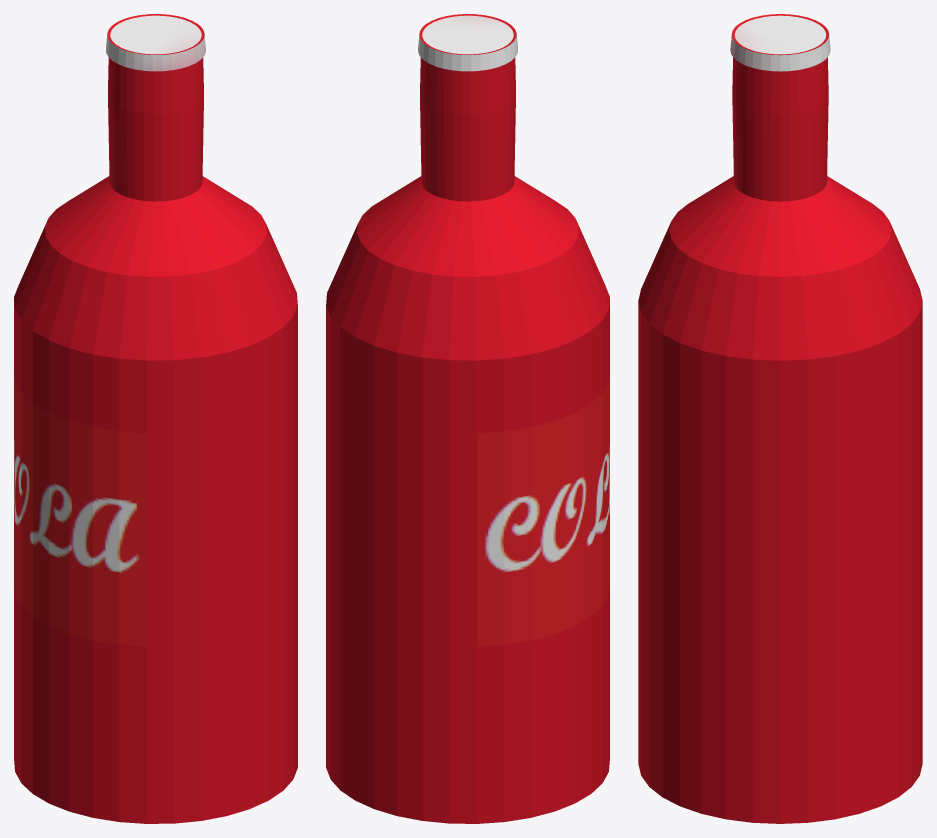
Rendered from SodaBottle.fbx.
3 renders of one model, left to right at view 1: azimuth 30°, elevation 25°; view 2: azimuth 150°, elevation 25°; view 3: azimuth 270°, elevation 25°, orthographic.
Parts seen in each view (by area): view 1: Cylinder.195; view 2: Cylinder.195; view 3: Cylinder.195.
Part boxes in pixels (x1,y1,x2,y2): Cylinder.195: (14, 14, 297, 823); Cylinder.195: (326, 14, 609, 823); Cylinder.195: (638, 14, 922, 823).
Size of the model in its own units: 11.98 by 33.92 by 11.98.
